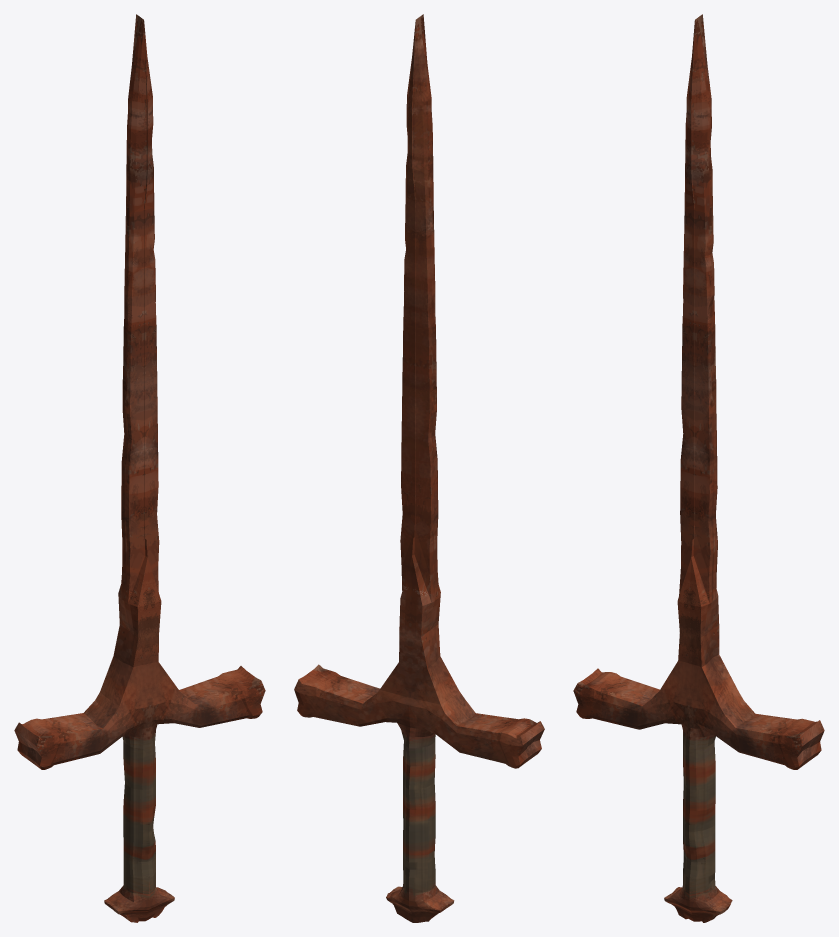
The model's file is RustySword.fbx.
3 views of the same model, side by side, from view 1: azimuth 30°, elevation 25°; view 2: azimuth 150°, elevation 25°; view 3: azimuth 330°, elevation 25° (orthographic).
Visible parts, largest first — view 1: RustySword; view 2: RustySword; view 3: RustySword.
Boxes of the visible parts, x1,y1,x2,y2 form: RustySword: [14, 14, 265, 922]; RustySword: [294, 14, 544, 922]; RustySword: [573, 14, 824, 922].
Bounding box in the file's own units: 502 × 1887 × 87.77.
